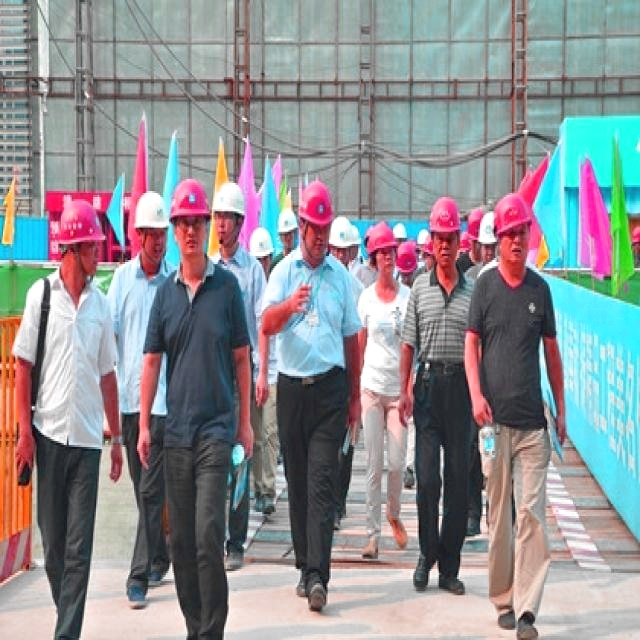Con_Casco: (171, 178, 211, 254), (298, 180, 334, 251), (495, 194, 532, 263)
Sin_Chaleco: (22, 273, 114, 455), (154, 259, 244, 435), (468, 267, 555, 433), (271, 253, 350, 373)
